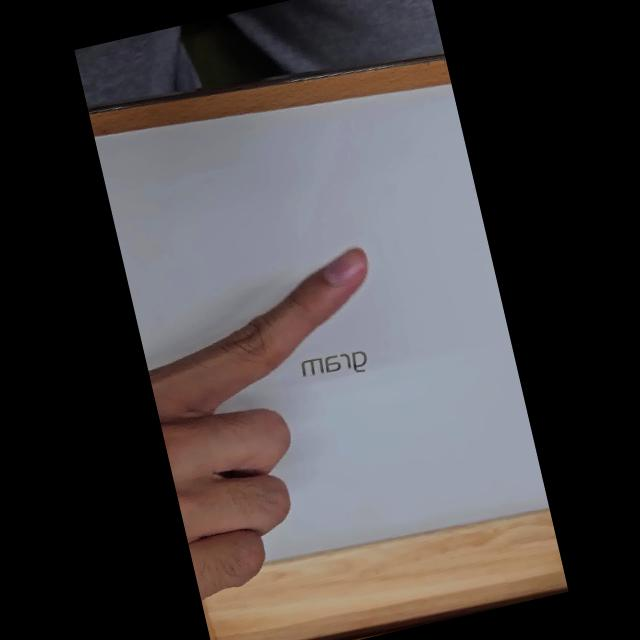finger: (178, 245, 390, 412), (198, 246, 366, 411)
